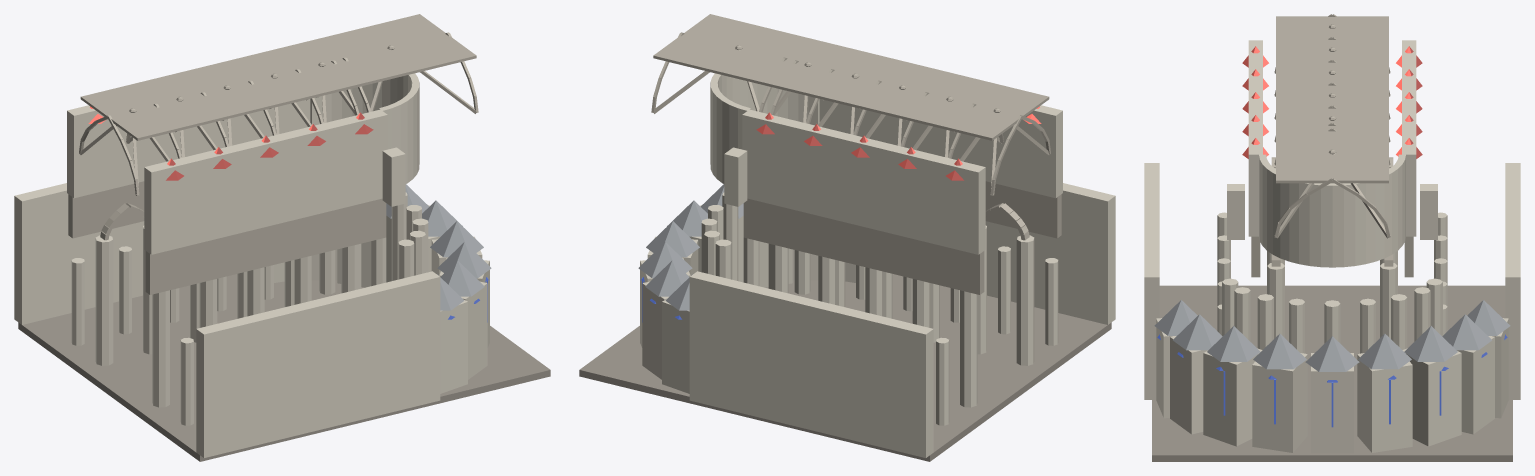
File: 04_choir_apse.glb
3 views of the same model, side by side, from view 1: azimuth 30°, elevation 25°; view 2: azimuth 150°, elevation 25°; view 3: azimuth 270°, elevation 25° (orthographic).
Parts seen in each view (by area): view 1: choir_apse_stone, choir_apse_stoneshaded_nocol, choir_apse_stonedark, choir_apse_stoneshaded, choir_apse_lead_nocol, choir_apse_glassred_nocol; view 2: choir_apse_stone, choir_apse_stoneshaded_nocol, choir_apse_stonedark, choir_apse_stoneshaded, choir_apse_lead_nocol, choir_apse_glassred_nocol; view 3: choir_apse_stone, choir_apse_stoneshaded_nocol, choir_apse_stonedark, choir_apse_lead_nocol, choir_apse_glassred_nocol, choir_apse_stoneshaded, choir_apse_glassblue_nocol.
Boxes of the visible parts, left/top/right/bottom form: choir_apse_stone: left=14, top=73, right=489, bottom=457; choir_apse_stoneshaded_nocol: left=79, top=14, right=478, bottom=195; choir_apse_stonedark: left=18, top=274, right=550, bottom=461; choir_apse_stoneshaded: left=68, top=181, right=386, bottom=294; choir_apse_lead_nocol: left=386, top=184, right=491, bottom=310; choir_apse_glassred_nocol: left=88, top=106, right=373, bottom=180; choir_apse_stone: left=640, top=73, right=1115, bottom=457; choir_apse_stoneshaded_nocol: left=651, top=14, right=1050, bottom=195; choir_apse_stonedark: left=579, top=274, right=1111, bottom=461; choir_apse_stoneshaded: left=743, top=181, right=1061, bottom=294; choir_apse_lead_nocol: left=638, top=184, right=743, bottom=310; choir_apse_glassred_nocol: left=756, top=106, right=1041, bottom=180; choir_apse_stone: left=1144, top=40, right=1520, bottom=453; choir_apse_stoneshaded_nocol: left=1274, top=14, right=1390, bottom=238; choir_apse_stonedark: left=1152, top=285, right=1512, bottom=461; choir_apse_lead_nocol: left=1154, top=300, right=1510, bottom=371; choir_apse_glassred_nocol: left=1242, top=46, right=1422, bottom=158; choir_apse_stoneshaded: left=1251, top=157, right=1413, bottom=277; choir_apse_glassblue_nocol: left=1157, top=334, right=1507, bottom=427.
Size of what is drawn, in the model's own units: 44.71 by 34.1 by 41.7.
